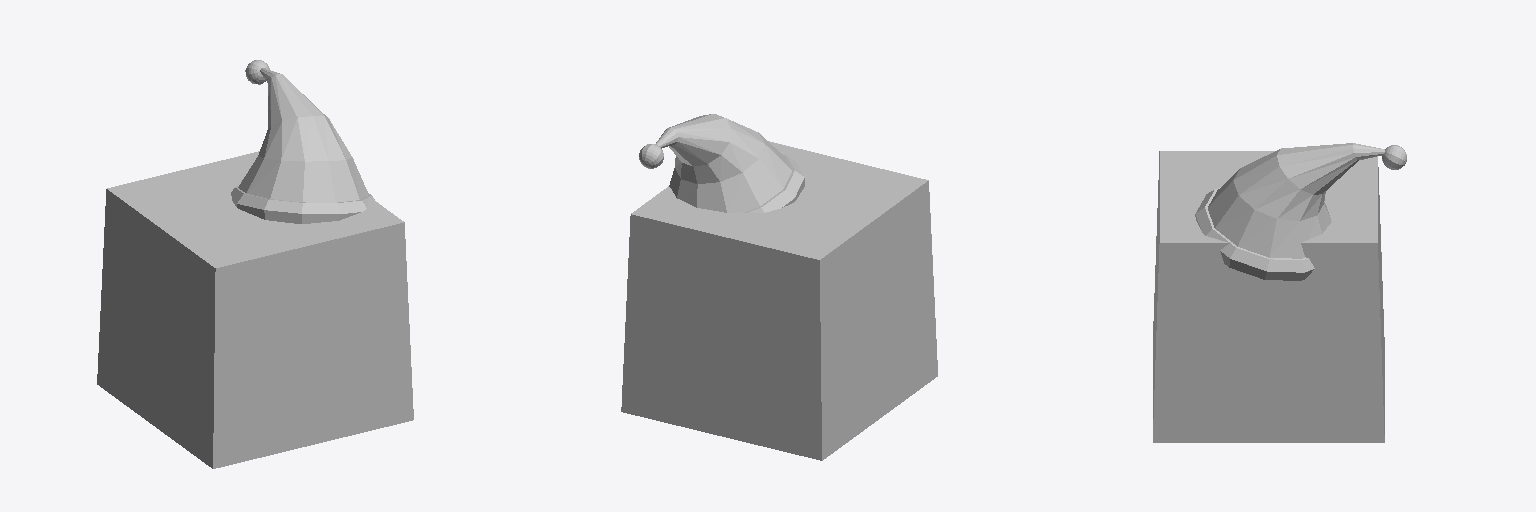
Rendered from CrackerBullet.obj.
3 renders of one model, left to right at view 1: azimuth 30°, elevation 25°; view 2: azimuth 150°, elevation 25°; view 3: azimuth 270°, elevation 25°, orthographic.
Parts seen in each view (by area): view 1: 立方体; view 2: 立方体; view 3: 立方体.
Part boxes in pixels (left/top/right/bottom): 立方体: left=97, top=60, right=413, bottom=468; 立方体: left=621, top=114, right=937, bottom=460; 立方体: left=1153, top=143, right=1406, bottom=442.
Bounding box in the file's own units: 2.12 × 2.68 × 2.19.